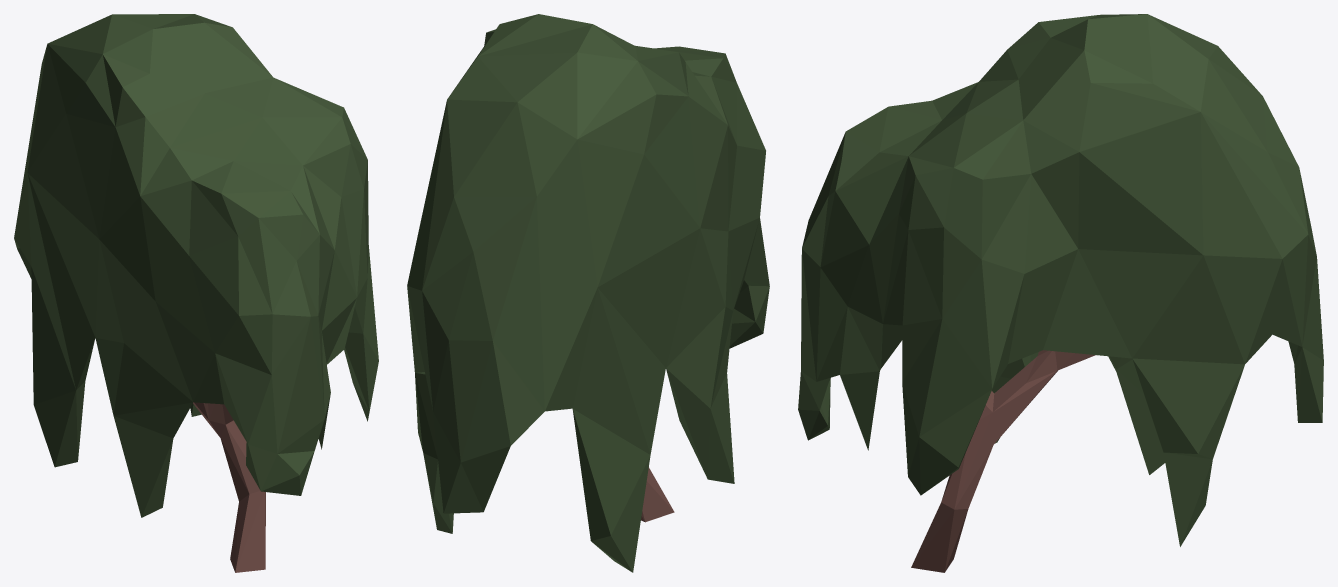
File: Willow_1.lod2.glb
3 renders of one model, left to right at view 1: azimuth 30°, elevation 25°; view 2: azimuth 150°, elevation 25°; view 3: azimuth 270°, elevation 25°, orthographic. The views are drawn at different scales.
Visible parts, largest first — view 1: Willow_1; view 2: Willow_1; view 3: Willow_1.
Part boxes in pixels (x1=…): Willow_1: x1=14, y1=14, x2=378, y2=572; Willow_1: x1=407, y1=14, x2=769, y2=572; Willow_1: x1=798, y1=14, x2=1323, y2=572.
Bounding box in the file's own units: 1.44 × 2.85 × 2.55.
